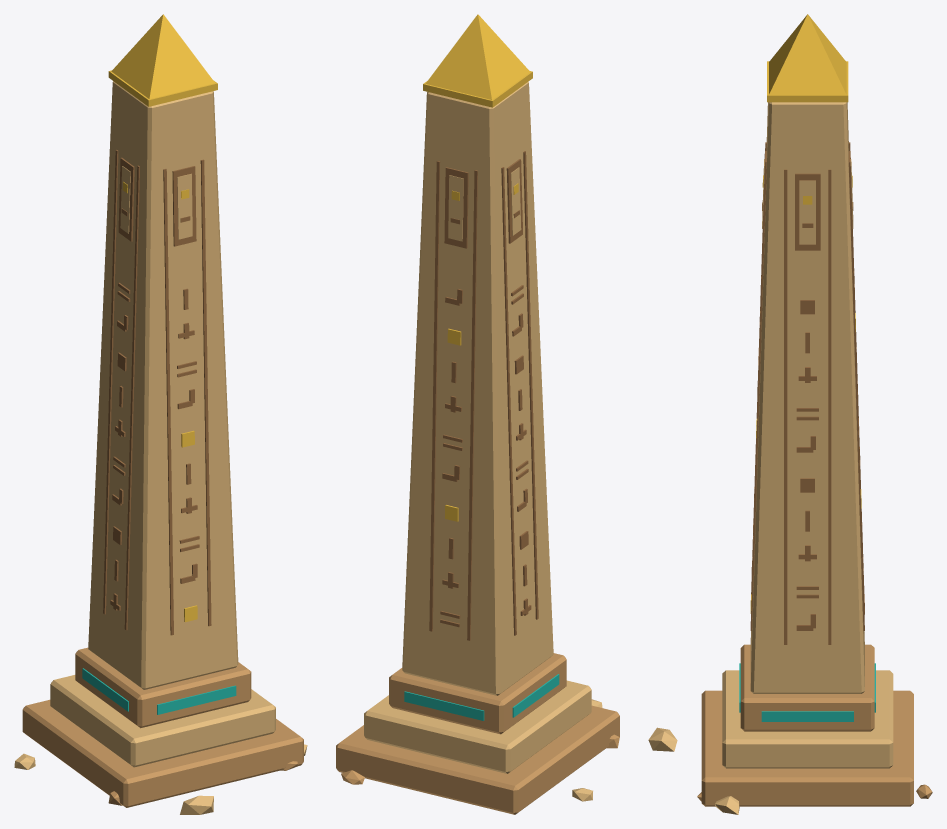
Rendered from obelisk.glb.
3 views of the same model, side by side, from view 1: azimuth 30°, elevation 25°; view 2: azimuth 150°, elevation 25°; view 3: azimuth 270°, elevation 25° (orthographic).
Visible parts, largest first — view 1: obelisk; view 2: obelisk; view 3: obelisk.
Part boxes in pixels (x1,y1,x2,y2): obelisk: (14, 14, 307, 814); obelisk: (336, 14, 619, 814); obelisk: (648, 14, 932, 814).
Size of the model in its own units: 3.01 by 8.96 by 3.08.
